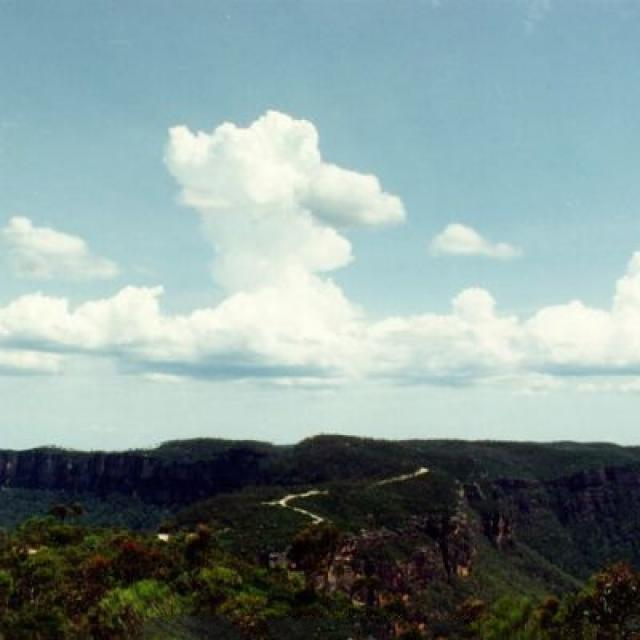Cu: (1, 87, 640, 398)
